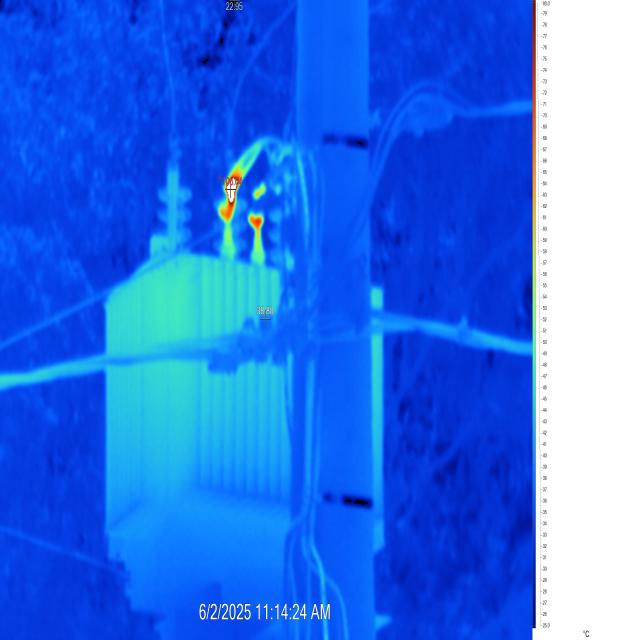Transformer: (0, 0, 531, 640)
